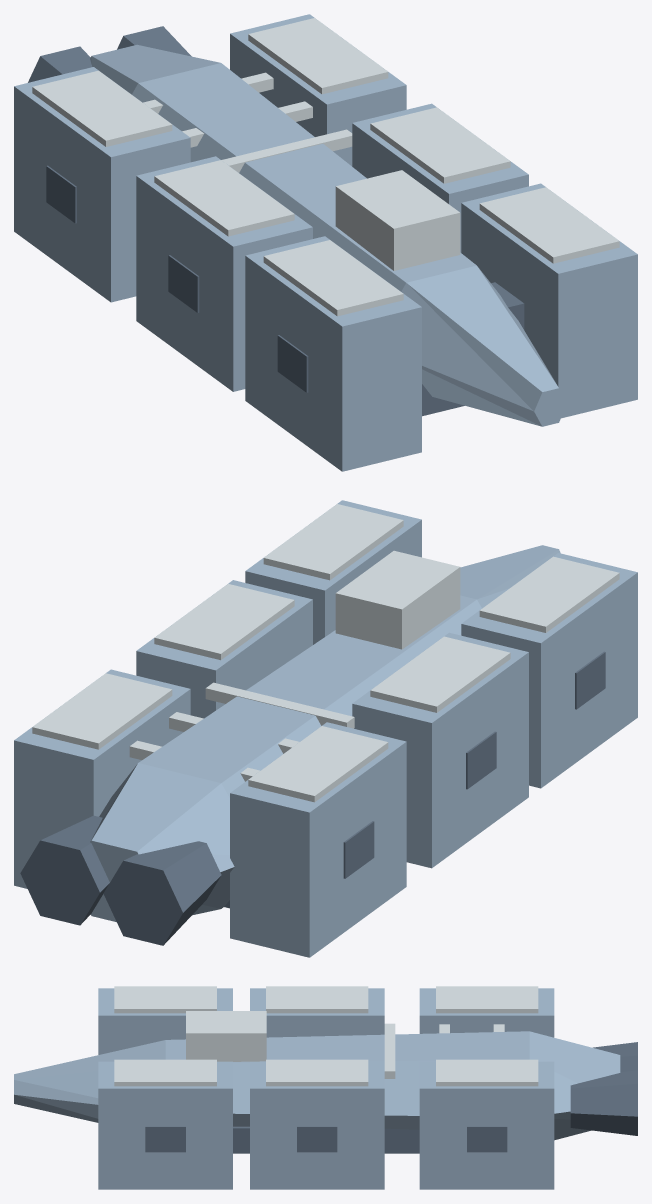
3 renders of one model, top to bottom at view 1: azimuth 30°, elevation 25°; view 2: azimuth 150°, elevation 25°; view 3: azimuth 270°, elevation 25°, orthographic. The views are drawn at different scales.
Bounding box in the file's own units: 3.24 × 1.75 × 8.43.
